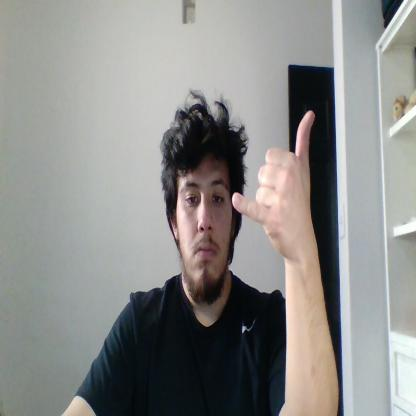Y: (231, 110, 315, 255)
